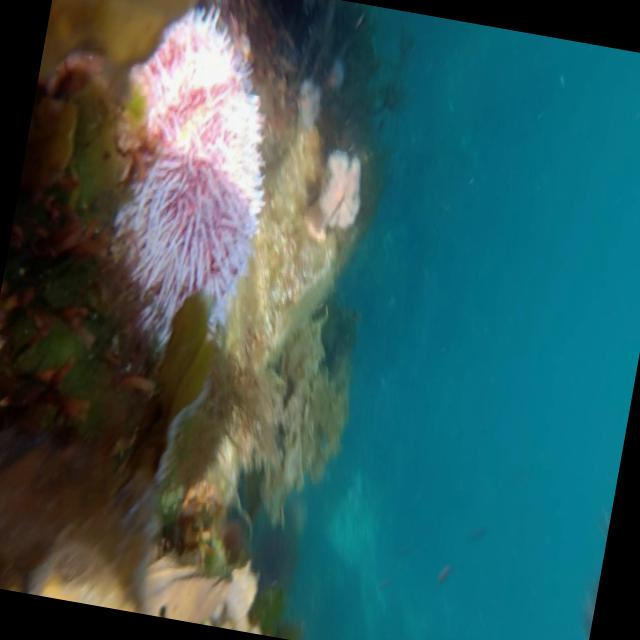Deniz Kestanesi: (79, 0, 297, 379), (322, 58, 348, 90)
